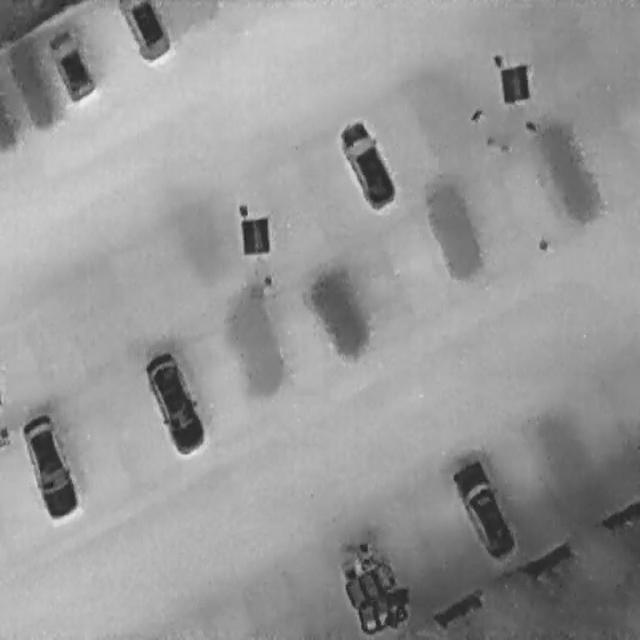Car: (138, 341, 212, 460), (14, 404, 84, 525), (446, 452, 519, 568), (332, 110, 402, 219), (43, 20, 99, 106), (115, 0, 171, 62)
